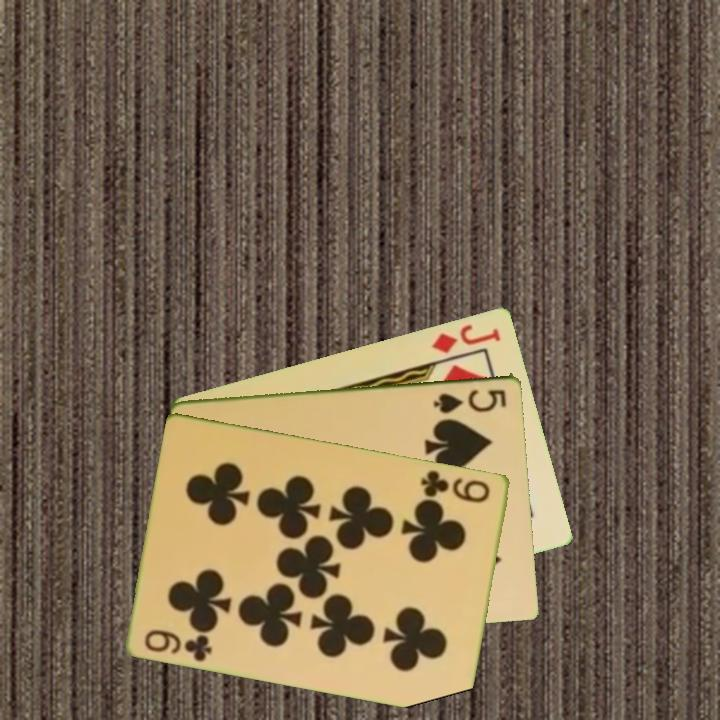5s: (430, 385, 510, 416)
9c: (418, 466, 493, 506), (141, 625, 216, 665)
Jd: (428, 320, 504, 356)
